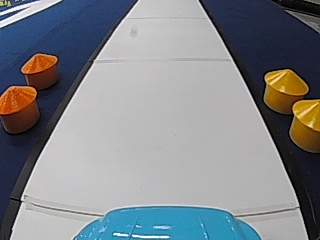granary: (261, 67, 309, 112), (0, 83, 39, 134), (286, 98, 318, 150), (19, 50, 58, 88)
